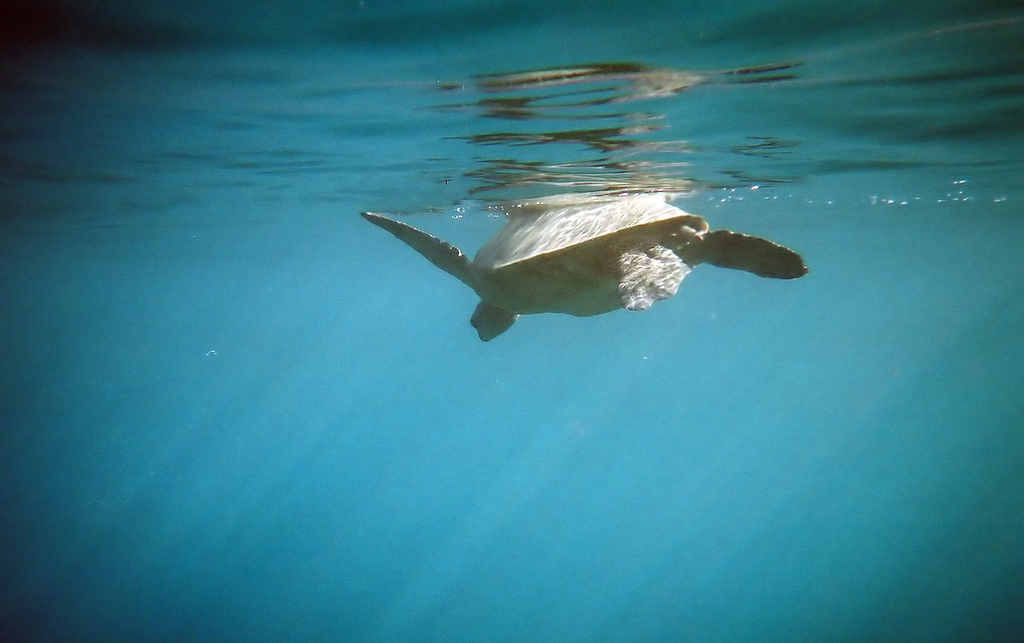Sea turtles: (358, 195, 808, 341), (364, 202, 808, 344)
